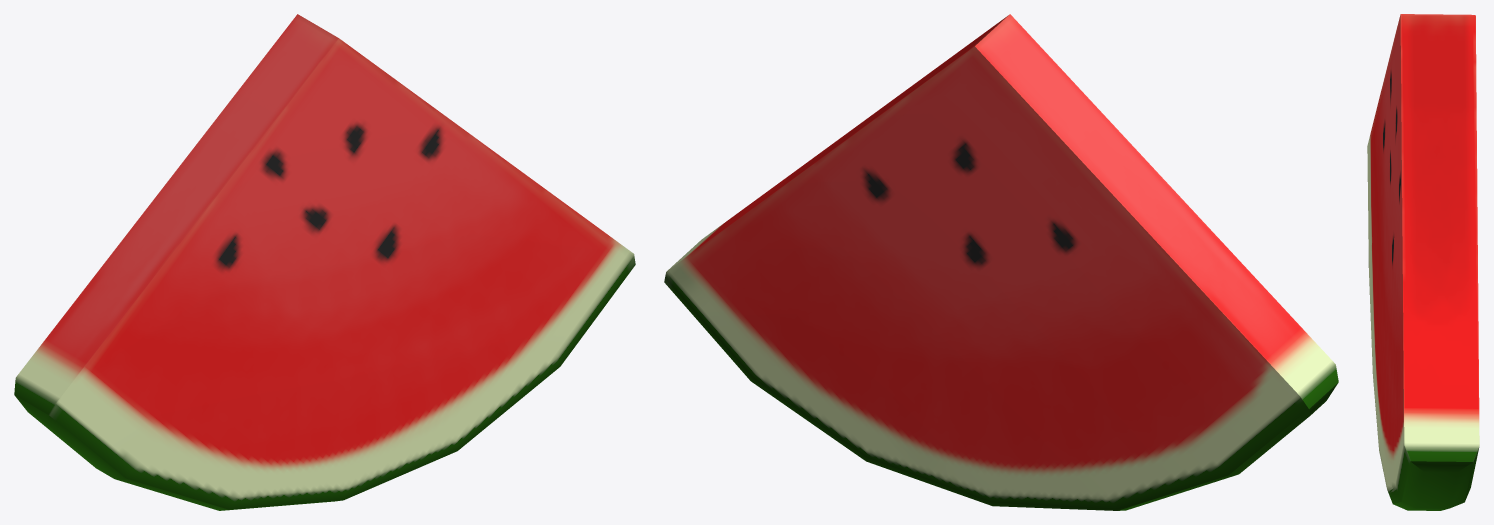
The model's file is watermelon.fbx.
3 views of the same model, side by side, from view 1: azimuth 30°, elevation 25°; view 2: azimuth 150°, elevation 25°; view 3: azimuth 270°, elevation 25° (orthographic). The views are drawn at different scales.
Parts seen in each view (by area): view 1: watermelon; view 2: watermelon; view 3: watermelon.
Boxes of the visible parts, left/top/right/bottom form: watermelon: left=14, top=14, right=635, bottom=510; watermelon: left=664, top=14, right=1338, bottom=510; watermelon: left=1367, top=14, right=1479, bottom=510.
Size of the model in its own units: 35.02 by 25.45 by 5.63.
